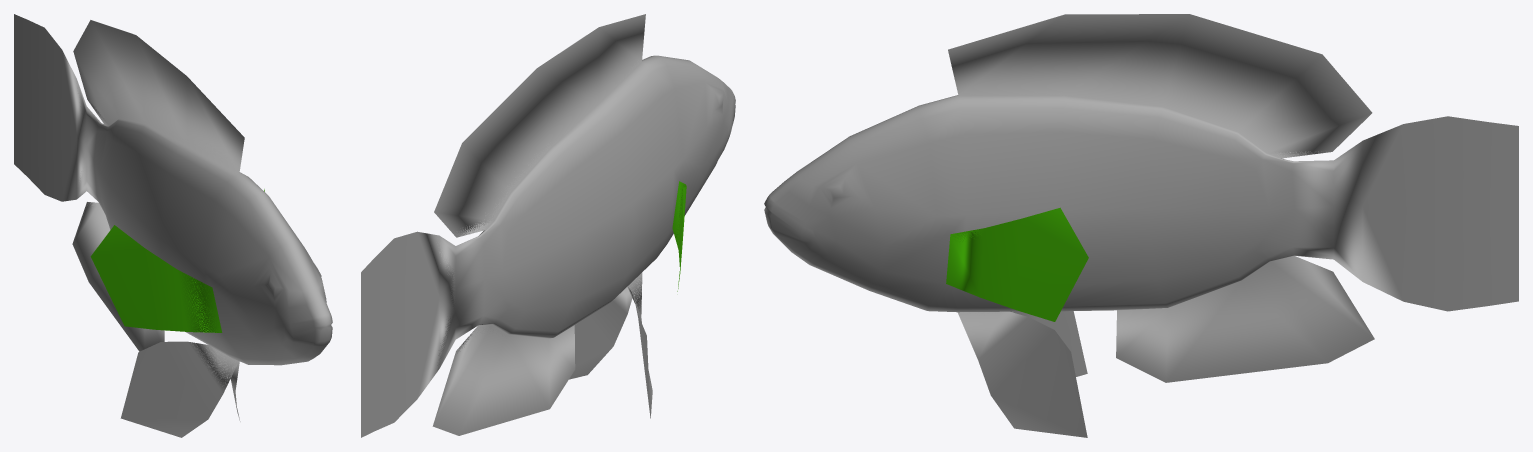
The model's file is Labridae_C_S.fbx.
3 views of the same model, side by side, from view 1: azimuth 30°, elevation 25°; view 2: azimuth 150°, elevation 25°; view 3: azimuth 270°, elevation 25° (orthographic). The views are drawn at different scales.
Visible parts, largest first — view 1: Labridae_C_S_Mesh; view 2: Labridae_C_S_Mesh; view 3: Labridae_C_S_Mesh.
Part boxes in pixels (x1,y1,x2,y2): Labridae_C_S_Mesh: (14, 14, 332, 437); Labridae_C_S_Mesh: (361, 14, 735, 437); Labridae_C_S_Mesh: (764, 14, 1518, 437).
Bounding box in the file's own units: 0.00308 × 0.00585 × 0.0101.
